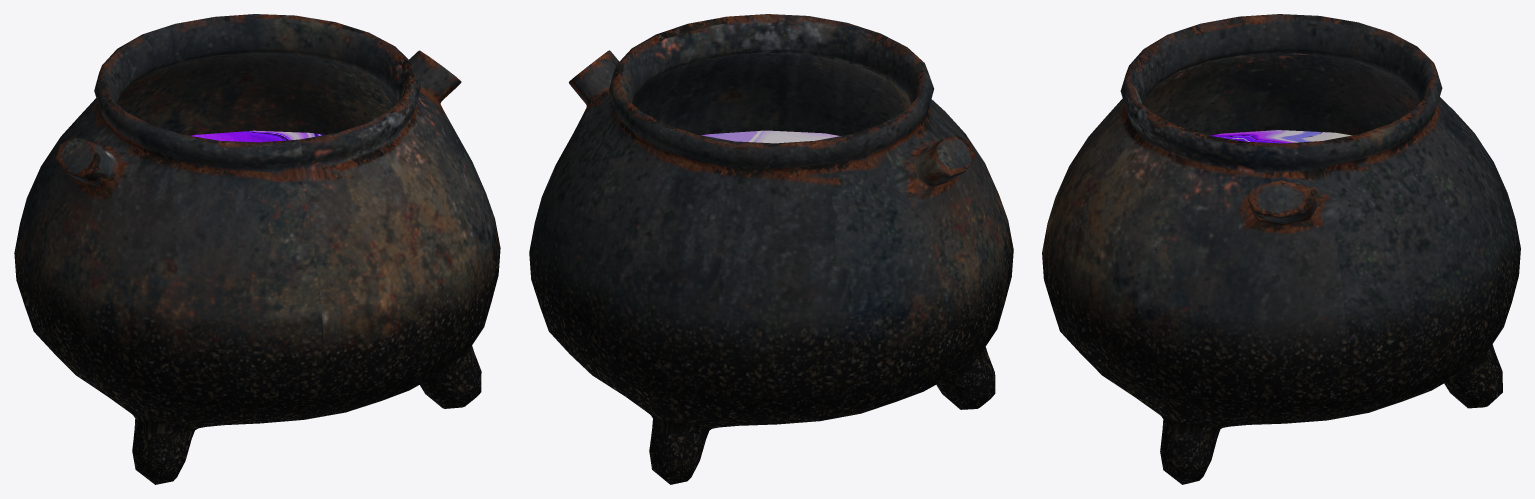
The model's file is WirchersCauldron_WithLiquid.fbx.
3 renders of one model, left to right at view 1: azimuth 30°, elevation 25°; view 2: azimuth 150°, elevation 25°; view 3: azimuth 270°, elevation 25°, orthographic.
Visible parts, largest first — view 1: Cauldron, Cauldron.001; view 2: Cauldron, Cauldron.001; view 3: Cauldron, Cauldron.001.
Boxes of the visible parts, x1,y1,x2,y2 form: Cauldron: (14, 14, 500, 484); Cauldron.001: (191, 130, 323, 142); Cauldron: (529, 14, 1013, 484); Cauldron.001: (701, 130, 840, 143); Cauldron: (1042, 14, 1520, 484); Cauldron.001: (1210, 130, 1351, 143).
Bounding box in the file's own units: 415 × 312 × 410.
